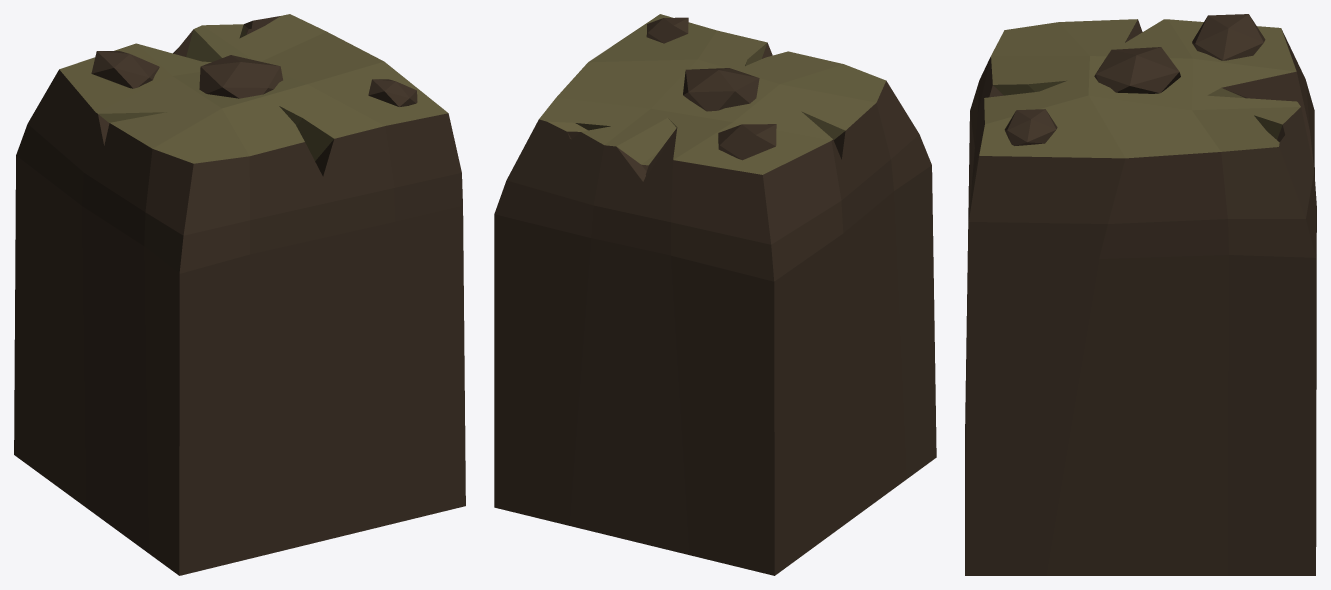
Rendered from TileWall_04.fbx.
3 renders of one model, left to right at view 1: azimuth 30°, elevation 25°; view 2: azimuth 150°, elevation 25°; view 3: azimuth 270°, elevation 25°, orthographic. The views are drawn at different scales.
Parts seen in each view (by area): view 1: WallTile_04; view 2: WallTile_04; view 3: WallTile_04.
Part boxes in pixels (x1,y1,x2,y2): WallTile_04: [14, 14, 465, 575]; WallTile_04: [494, 14, 936, 575]; WallTile_04: [965, 14, 1316, 575].
Bounding box in the file's own units: 101 × 140 × 100.
